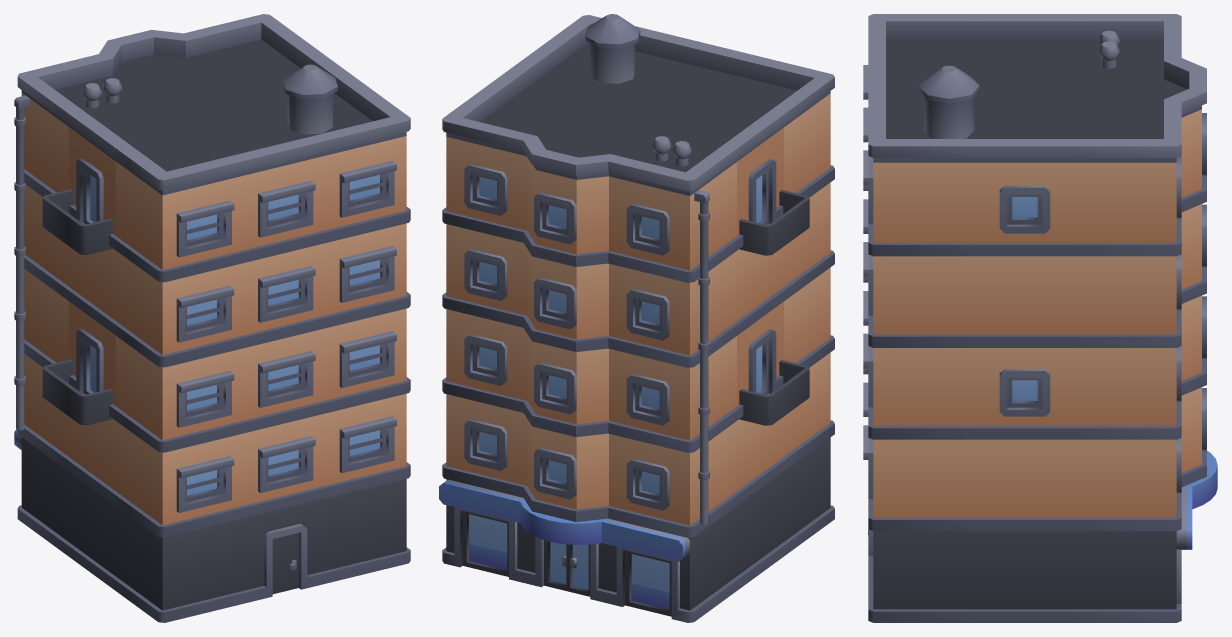
File: building-l.glb
3 views of the same model, side by side, from view 1: azimuth 30°, elevation 25°; view 2: azimuth 150°, elevation 25°; view 3: azimuth 270°, elevation 25° (orthographic). The views are drawn at different scales.
Parts seen in each view (by area): view 1: building-l; view 2: building-l; view 3: building-l.
Part boxes in pixels (x1,y1,x2,y2): building-l: [14, 14, 410, 622]; building-l: [439, 14, 834, 622]; building-l: [863, 14, 1217, 622].
Size of the model in its own units: 1.37 by 2.27 by 1.4.
Materials: 1 (1 with a texture image).
